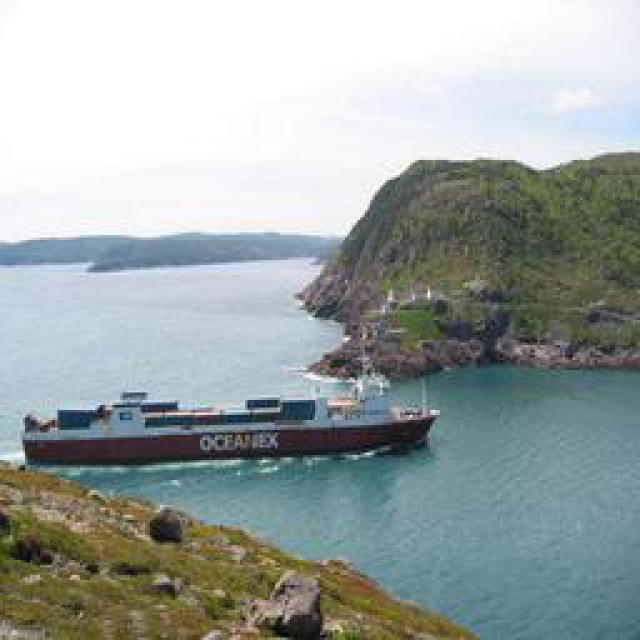Ship: (30, 389, 435, 469)
